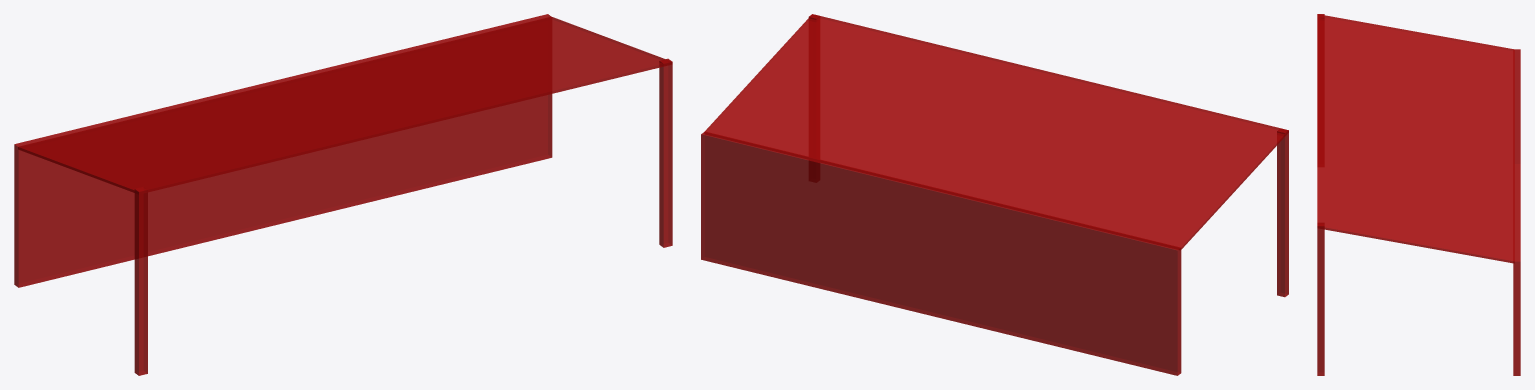
Rendered from SM_Bld_CamoNet_Tent_05_Collision.fbx.
The picture shows the model from 3 angles, left to right: view 1: azimuth 30°, elevation 25°; view 2: azimuth 150°, elevation 25°; view 3: azimuth 270°, elevation 25°; orthographic projection. The views are drawn at different scales.
Visible parts, largest first — view 1: SM_Bld_CamoNet_Tent_05_Collision; view 2: SM_Bld_CamoNet_Tent_05_Collision; view 3: SM_Bld_CamoNet_Tent_05_Collision.
Part boxes in pixels (bbox=[...]): SM_Bld_CamoNet_Tent_05_Collision: bbox=[14, 14, 672, 375]; SM_Bld_CamoNet_Tent_05_Collision: bbox=[701, 14, 1288, 375]; SM_Bld_CamoNet_Tent_05_Collision: bbox=[1317, 14, 1520, 375].
Size of the model in its own units: 1142 by 376 by 462.
